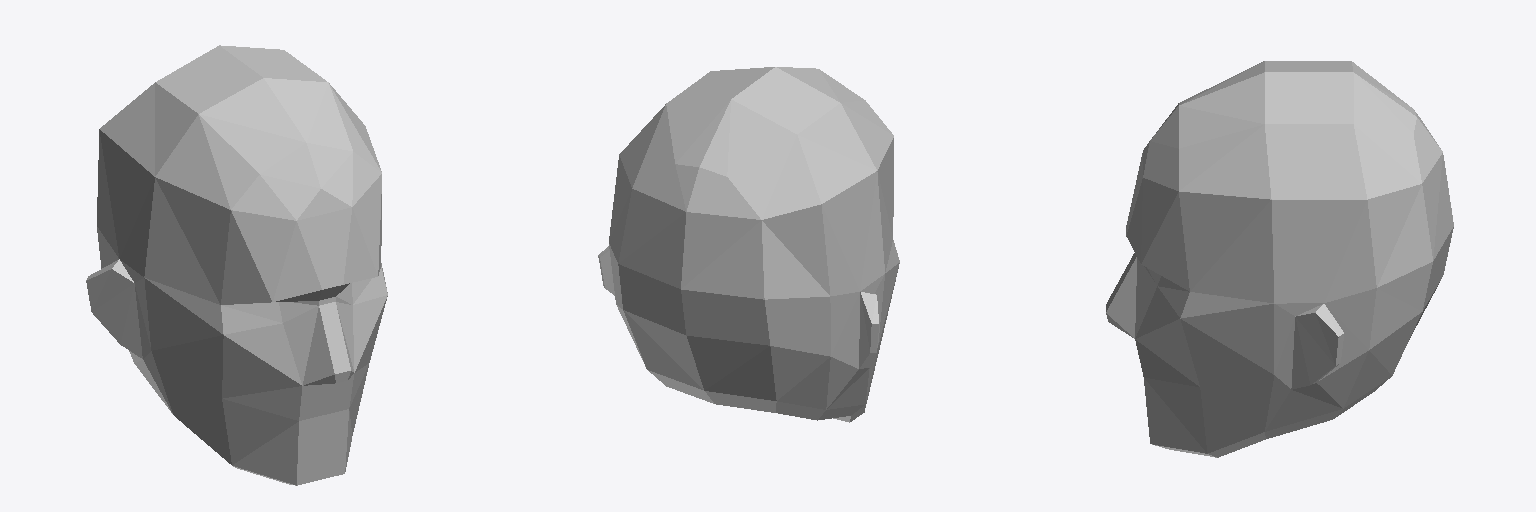
Rendered from human_head_low_poly.obj.
3 views of the same model, side by side, from view 1: azimuth 30°, elevation 25°; view 2: azimuth 150°, elevation 25°; view 3: azimuth 270°, elevation 25° (orthographic).
Parts seen in each view (by area): view 1: human_head_low_poly; view 2: human_head_low_poly; view 3: human_head_low_poly.
Part boxes in pixels (bbox=[...]): human_head_low_poly: bbox=[86, 45, 387, 485]; human_head_low_poly: bbox=[598, 67, 899, 422]; human_head_low_poly: bbox=[1106, 61, 1453, 457].
Bounding box in the file's own units: 19.68 × 24.57 × 21.11.